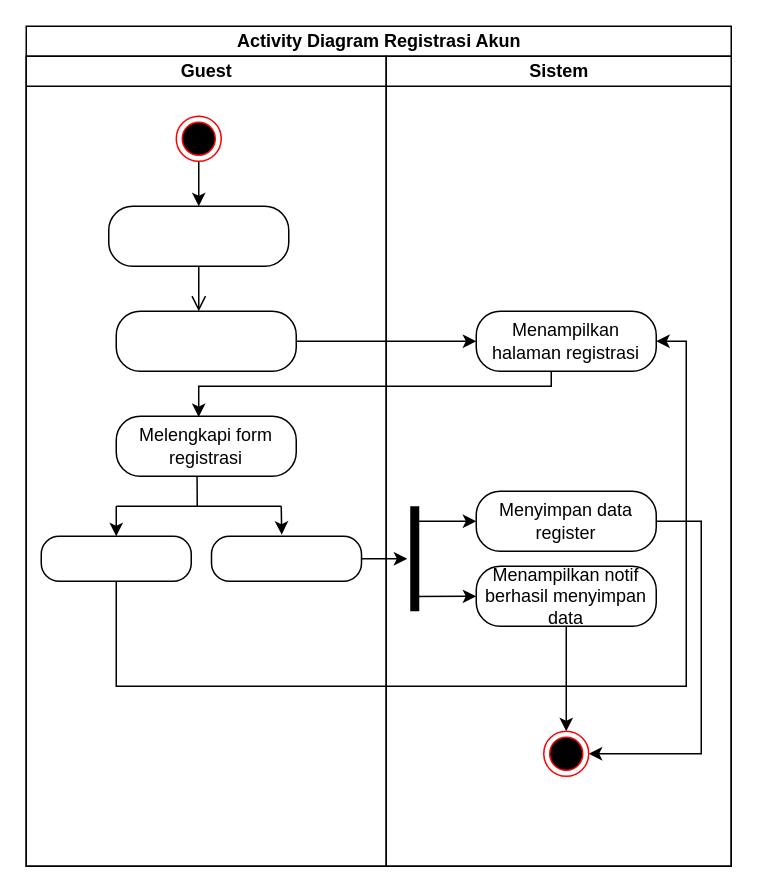
This 758x893 diagram has some shape labels left out. The shapes that lost their labels are listed below. From the top down, each one's centre as x and y in pixels, then its label:
At [198,235]: "Landing Page".
At [205,340]: "Memilih menu registrasi".
At [115,558]: "Menekan tombol back".
At [286,558]: "Menekan tombol submit".
